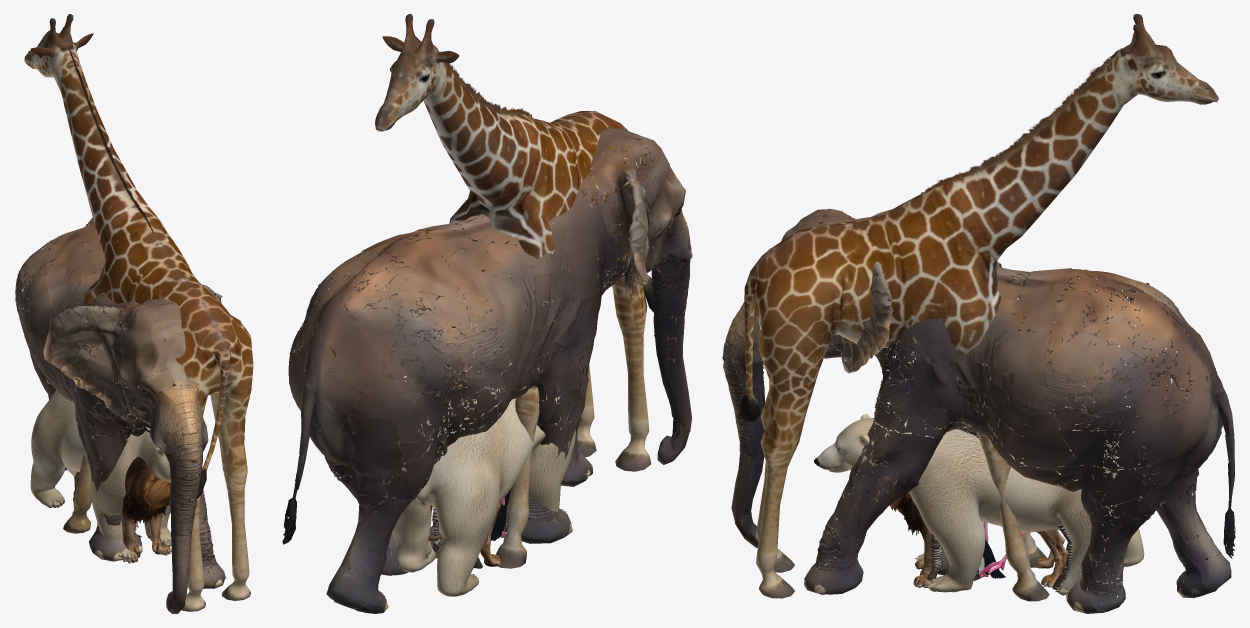
File: zoo_animals.glb
The picture shows the model from 3 angles, left to right: view 1: azimuth 30°, elevation 25°; view 2: azimuth 150°, elevation 25°; view 3: azimuth 270°, elevation 25°; orthographic projection. The views are drawn at different scales.
Visible parts, largest first — view 1: elephant, giraffe, polarbear, lion; view 2: elephant, giraffe, polarbear, lion; view 3: elephant, giraffe, polarbear, lion, zebra.
Part boxes in pixels (x1=…): elephant: x1=15, y1=217, x2=226, y2=613; giraffe: x1=24, y1=14, x2=253, y2=611; polarbear: x1=30, y1=378, x2=171, y2=559; lion: x1=73, y1=457, x2=171, y2=563; elephant: x1=282, y1=127, x2=692, y2=613; giraffe: x1=375, y1=14, x2=653, y2=568; polarbear: x1=386, y1=349, x2=575, y2=596; lion: x1=428, y1=417, x2=581, y2=566; elephant: x1=722, y1=208, x2=1235, y2=613; giraffe: x1=739, y1=14, x2=1218, y2=601; polarbear: x1=814, y1=414, x2=1144, y2=595; lion: x1=865, y1=473, x2=1068, y2=587; zebra: x1=895, y1=414, x2=1072, y2=589.
Size of the model in its own units: 2.21 by 4.91 by 4.07.
13 materials, 12 textured.
